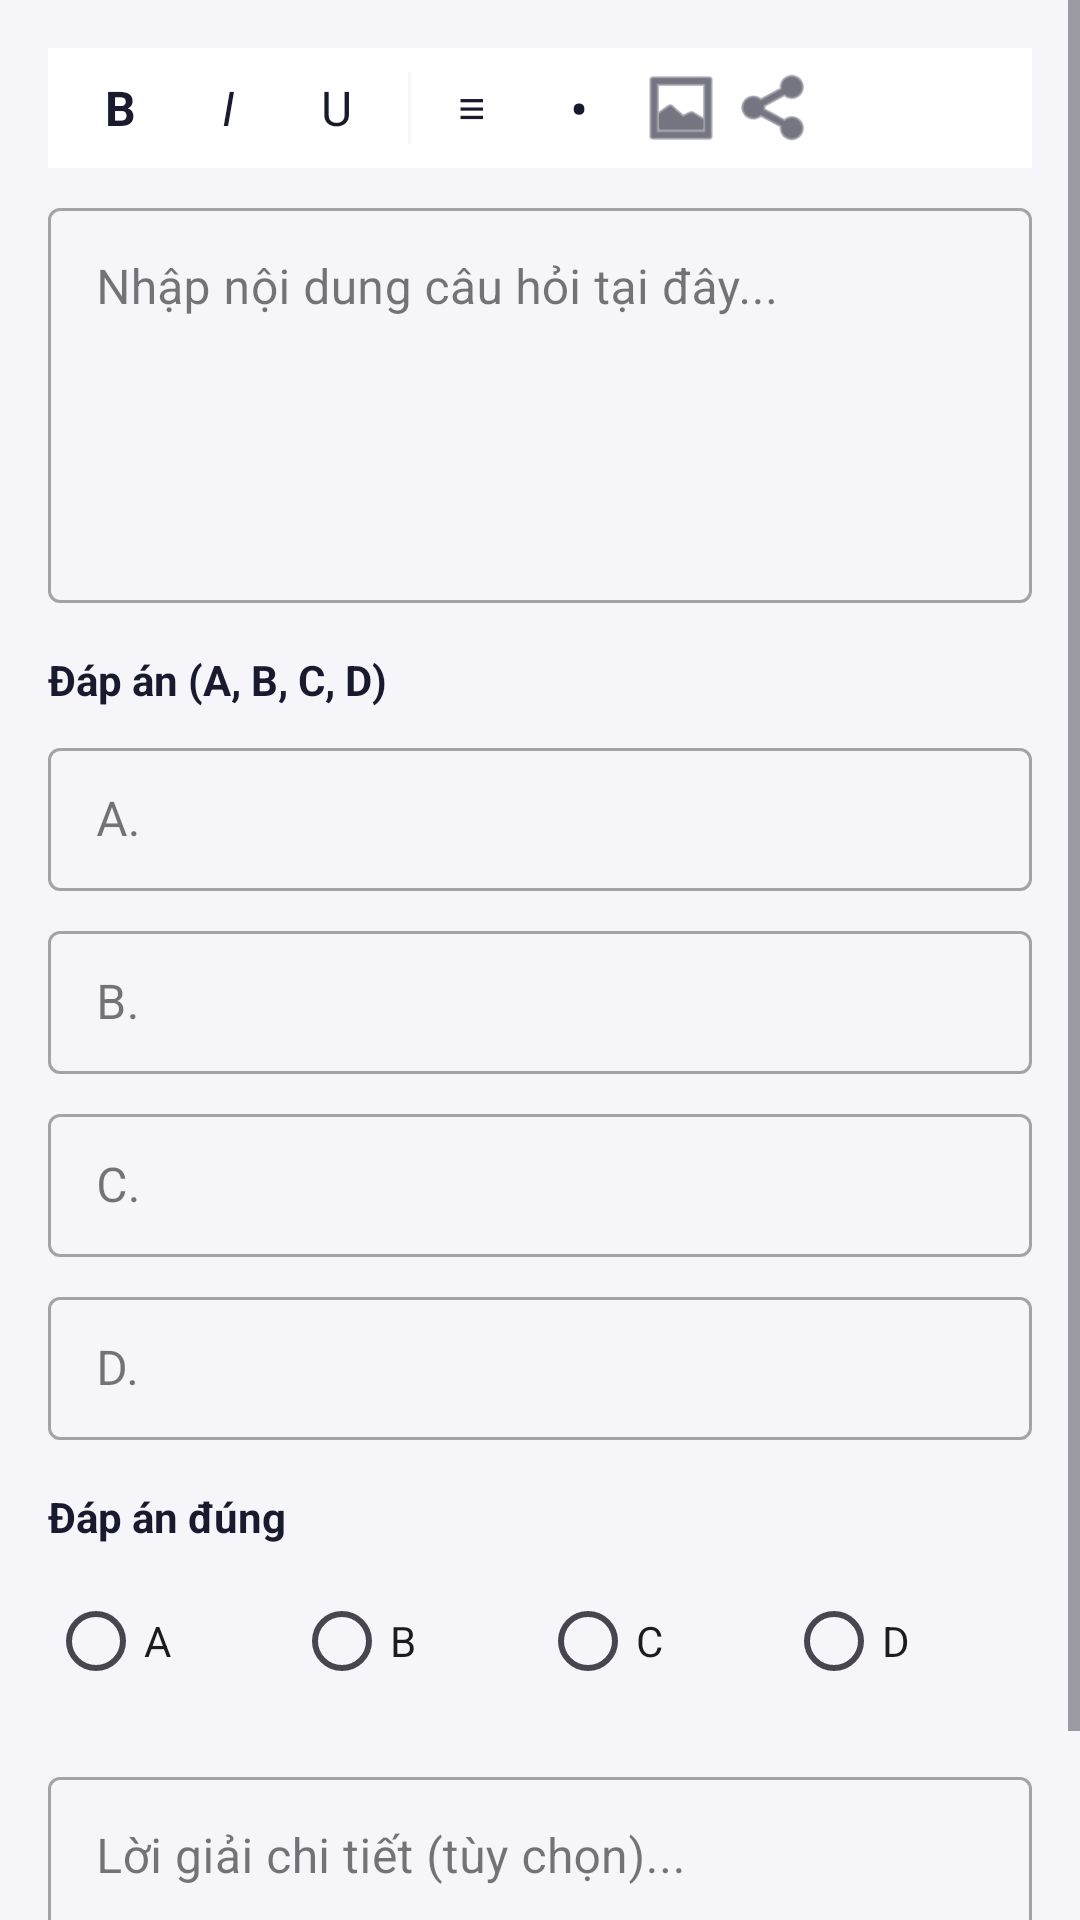

Icon bounding boxes for this 1080×1920 phone screenshot, format region(x1, y1, x2, y2):
gallery: region(649, 76, 713, 140)
share: region(741, 75, 804, 140)
